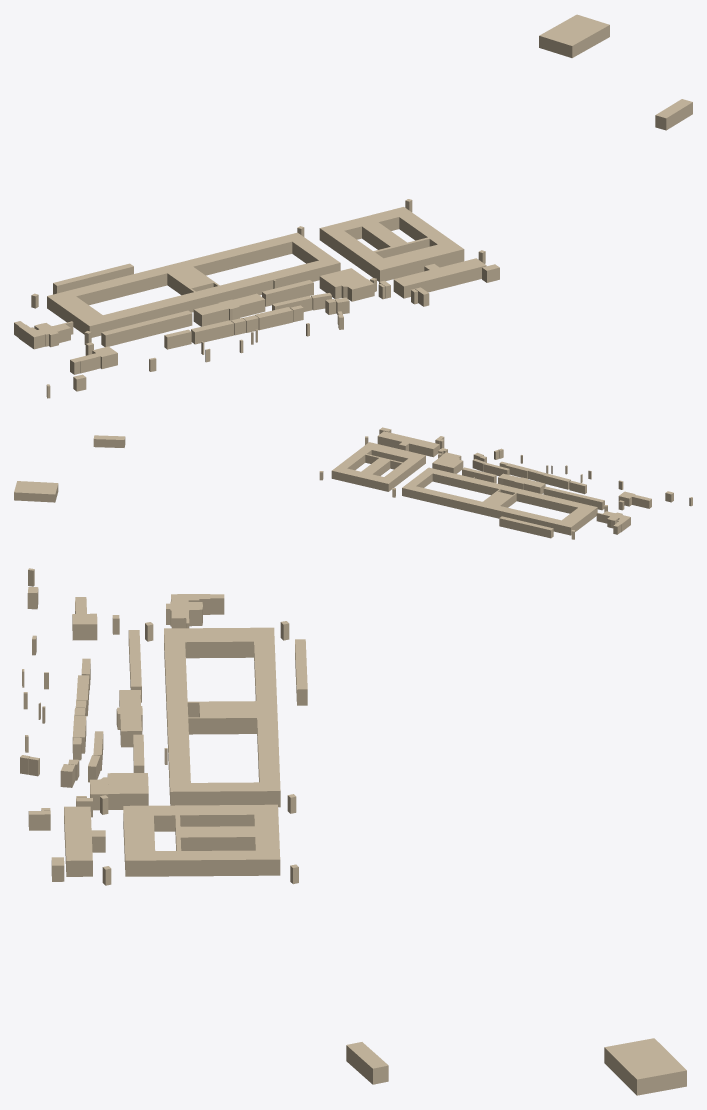
File: 2_4-estimated-coarse.glb
3 renders of one model, top to bottom at view 1: azimuth 30°, elevation 25°; view 2: azimuth 150°, elevation 25°; view 3: azimuth 270°, elevation 25°, orthographic. The views are drawn at different scales.
Bounding box in the file's own units: 818 × 12 × 451.
